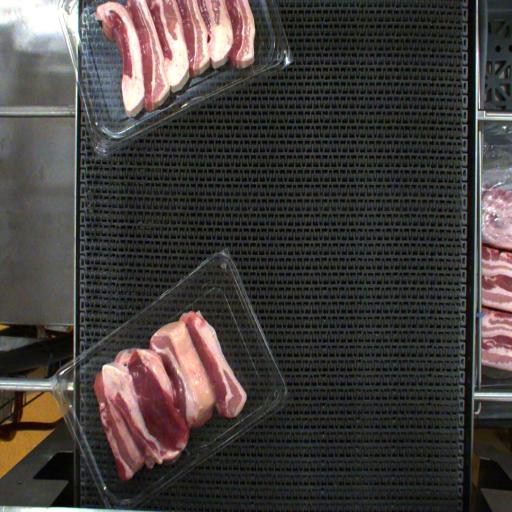twisted-meat: (154, 324, 224, 417)
